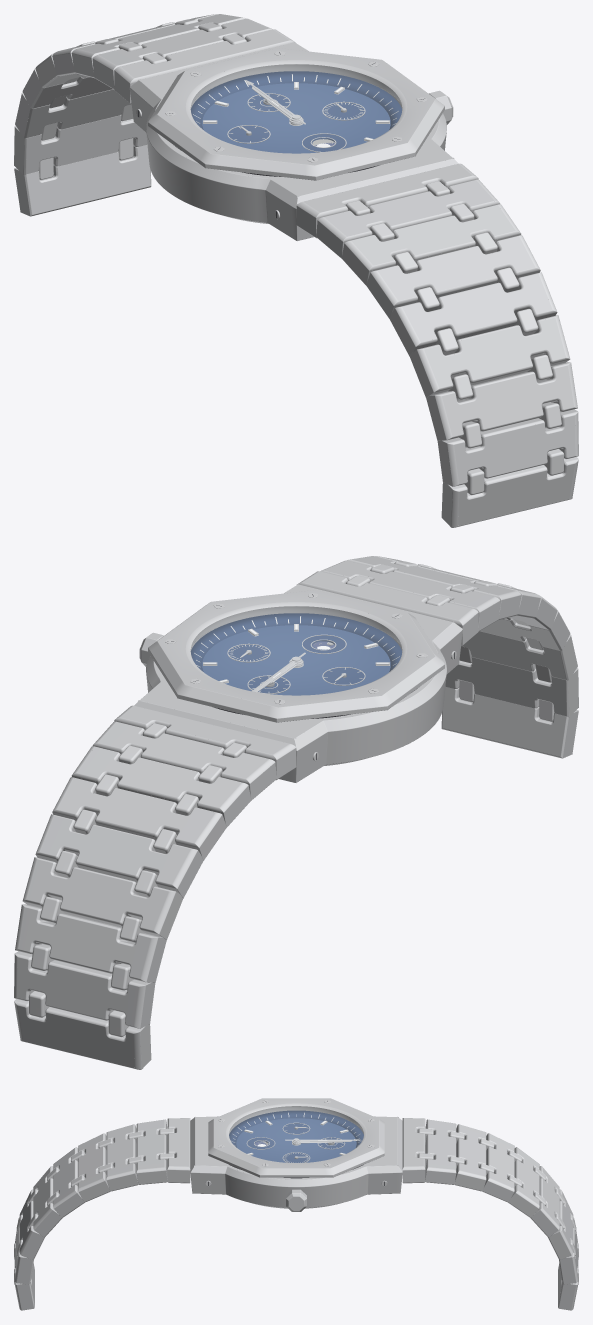
File: perpetual.glb
3 renders of one model, top to bottom at view 1: azimuth 30°, elevation 25°; view 2: azimuth 150°, elevation 25°; view 3: azimuth 270°, elevation 25°, orthographic. The views are drawn at different scales.
Parts seen in each view (by area): view 1: case, bezel, crystal, dial; view 2: case, bezel, crystal, dial; view 3: case, bezel, crystal, dial, crown.
Part boxes in pixels (<box>): case: <box>14,14,578,527</box>; bezel: <box>148,48,444,180</box>; crystal: <box>191,64,401,153</box>; dial: <box>191,71,402,153</box>; case: <box>14,556,578,1069</box>; bezel: <box>148,590,444,722</box>; crystal: <box>191,606,401,695</box>; dial: <box>190,613,401,695</box>; case: <box>14,1116,578,1310</box>; bezel: <box>208,1098,384,1177</box>; crystal: <box>229,1106,363,1162</box>; dial: <box>229,1110,363,1162</box>; crown: <box>286,1189,306,1211</box>.
Size of the model in its own units: 44.39 by 37.6 by 121.
